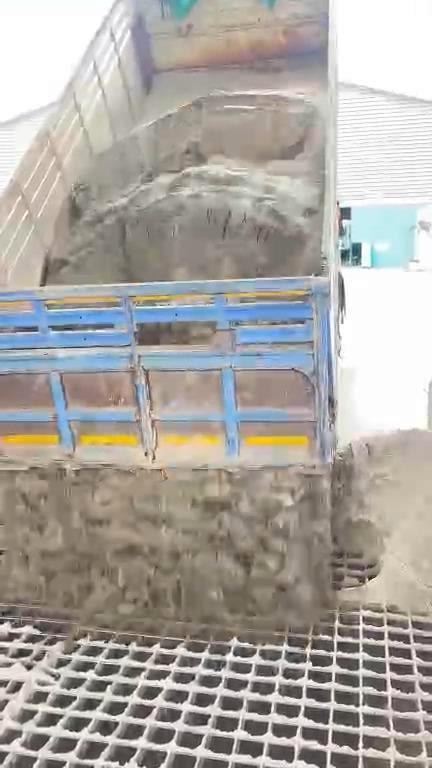sand: (1, 430, 432, 625), (48, 62, 334, 283)
